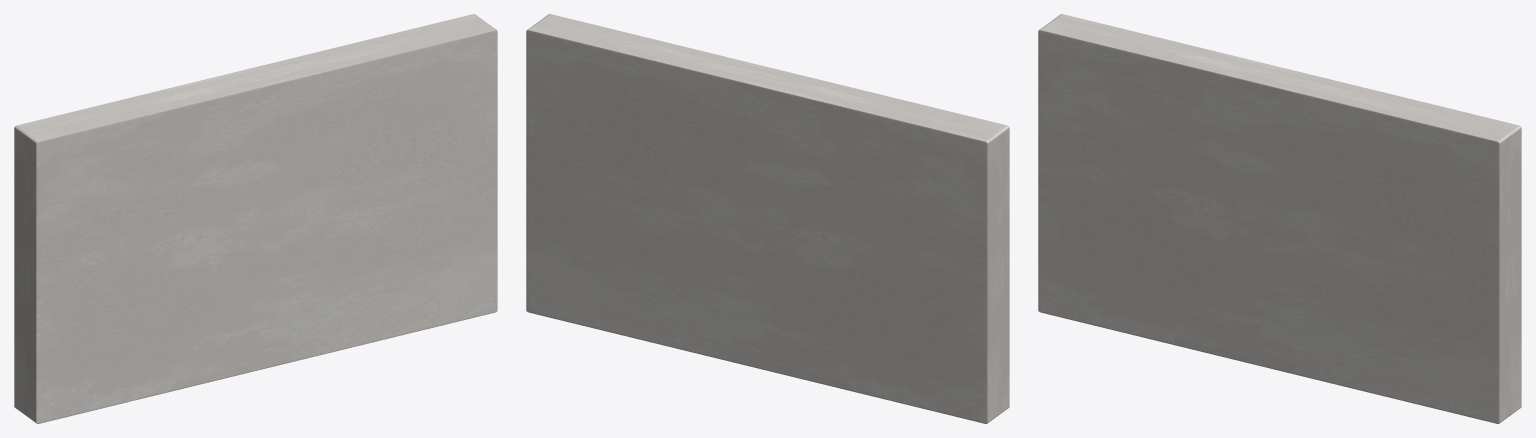
The model's file is Pillar-Wide.glb.
3 renders of one model, left to right at view 1: azimuth 30°, elevation 25°; view 2: azimuth 150°, elevation 25°; view 3: azimuth 330°, elevation 25°, orthographic.
Visible parts, largest first — view 1: Pillar-Wide; view 2: Pillar-Wide; view 3: Pillar-Wide.
Boxes of the visible parts, x1,y1,x2,y2 form: Pillar-Wide: [14, 14, 497, 423]; Pillar-Wide: [526, 14, 1009, 423]; Pillar-Wide: [1038, 14, 1521, 423].
Size of the model in its own units: 6 by 3.51 by 0.5.
Materials: 1 (1 with a texture image).
